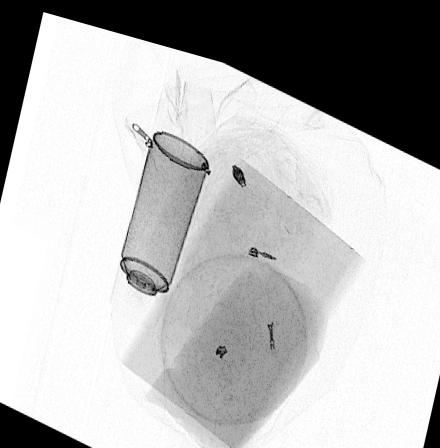Sprayer: (108, 120, 207, 323)
